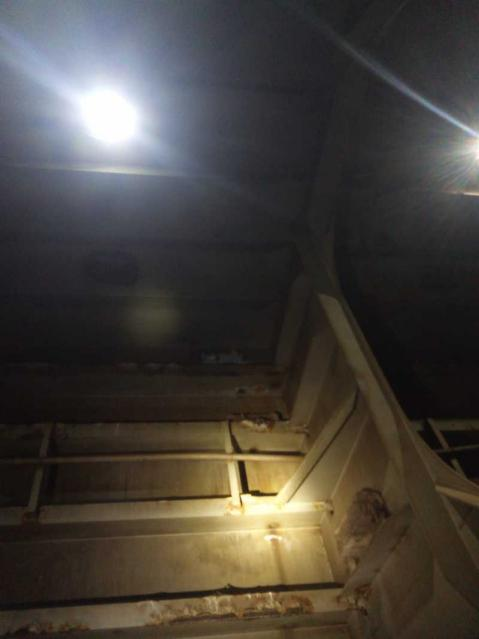corrosion: (313, 482, 393, 550), (132, 593, 227, 628), (213, 587, 342, 612), (6, 619, 110, 639)
